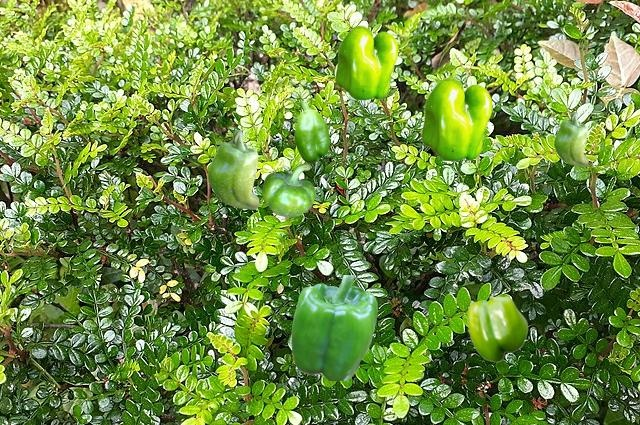bell_pepper: (291, 275, 376, 379), (421, 77, 491, 160), (335, 25, 397, 99), (467, 295, 527, 361), (208, 130, 258, 208), (262, 163, 314, 216), (294, 101, 328, 162), (554, 112, 587, 165)
